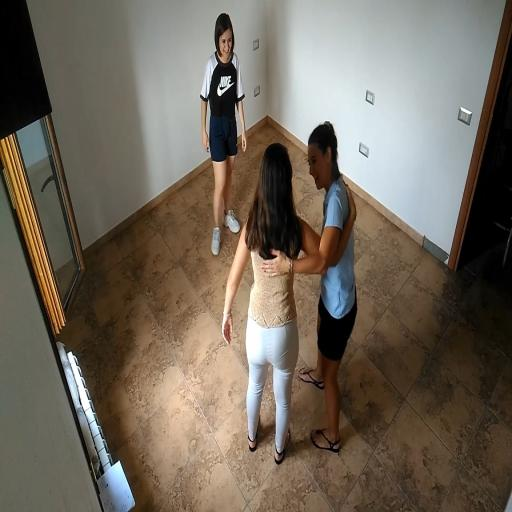nao-violencia: (209, 107, 364, 475)
